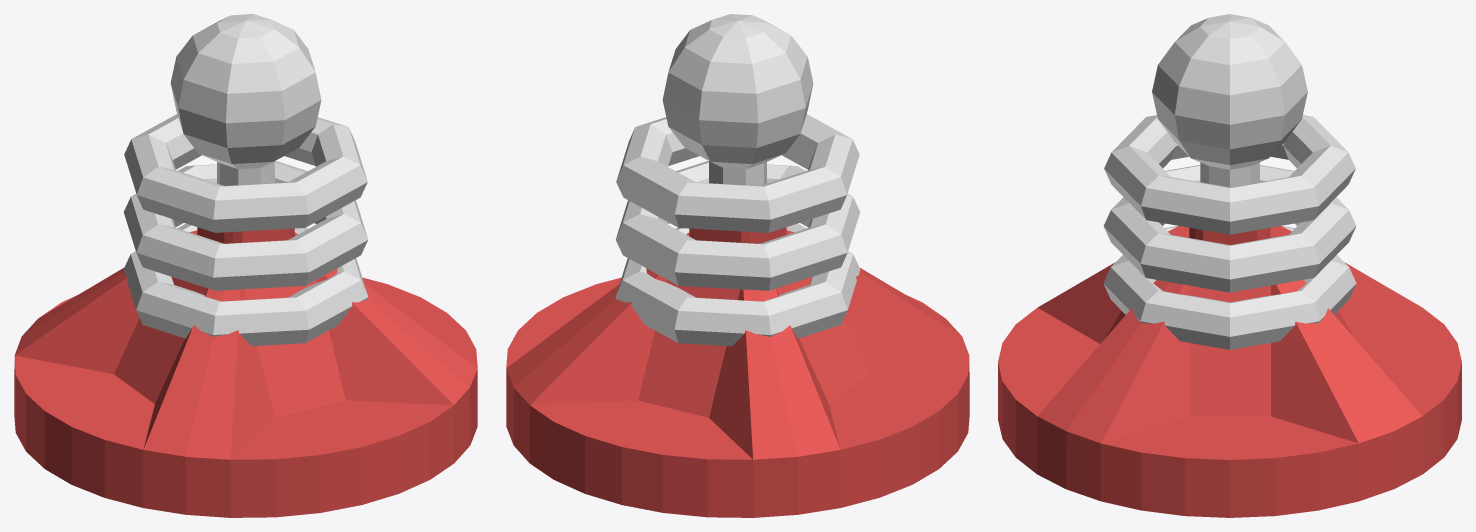
The model's file is tower_tesla.gltf.
3 views of the same model, side by side, from view 1: azimuth 30°, elevation 25°; view 2: azimuth 150°, elevation 25°; view 3: azimuth 270°, elevation 25° (orthographic).
Visible parts, largest first — view 1: Tower_Base, Tower_Top_Tesla; view 2: Tower_Base, Tower_Top_Tesla; view 3: Tower_Base, Tower_Top_Tesla.
Part boxes in pixels (<box>): Tower_Base: <box>14,227,477,517</box>; Tower_Top_Tesla: <box>123,14,368,346</box>; Tower_Base: <box>506,227,969,517</box>; Tower_Top_Tesla: <box>615,14,860,346</box>; Tower_Base: <box>998,226,1461,517</box>; Tower_Top_Tesla: <box>1103,14,1356,349</box>.
Bounding box in the file's own units: 0.1 × 0.0948 × 0.1.
